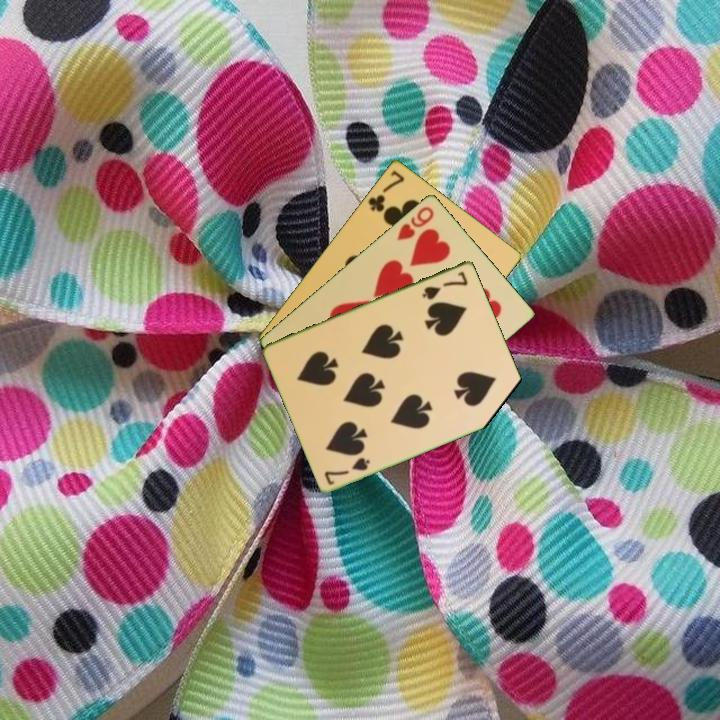7c: (364, 166, 407, 215)
7s: (418, 267, 471, 302), (321, 454, 373, 488)
9h: (393, 202, 437, 243)
